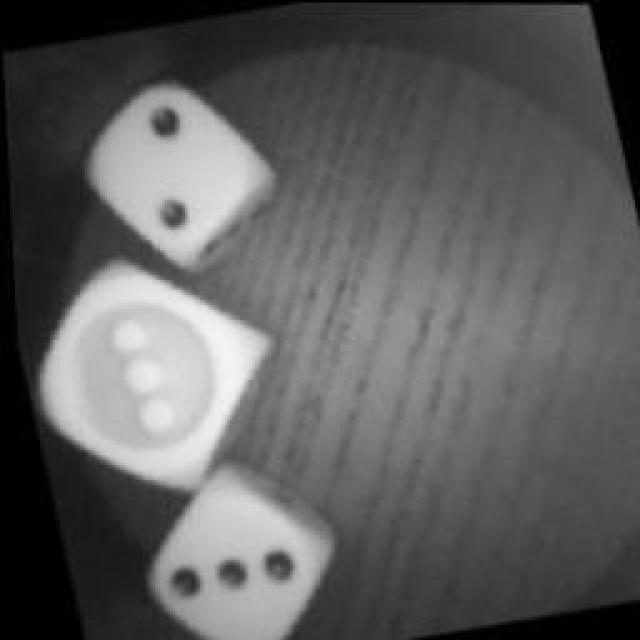dice_2: (55, 60, 287, 285)
dice_3: (10, 236, 288, 516), (111, 447, 341, 640)
